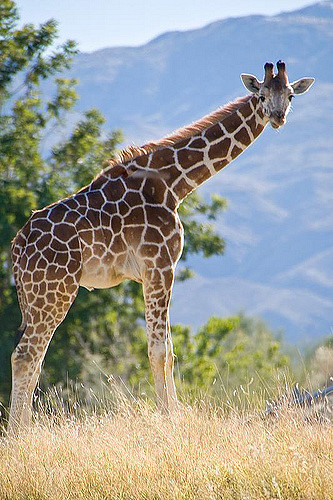giraffe: (21, 57, 321, 433)
